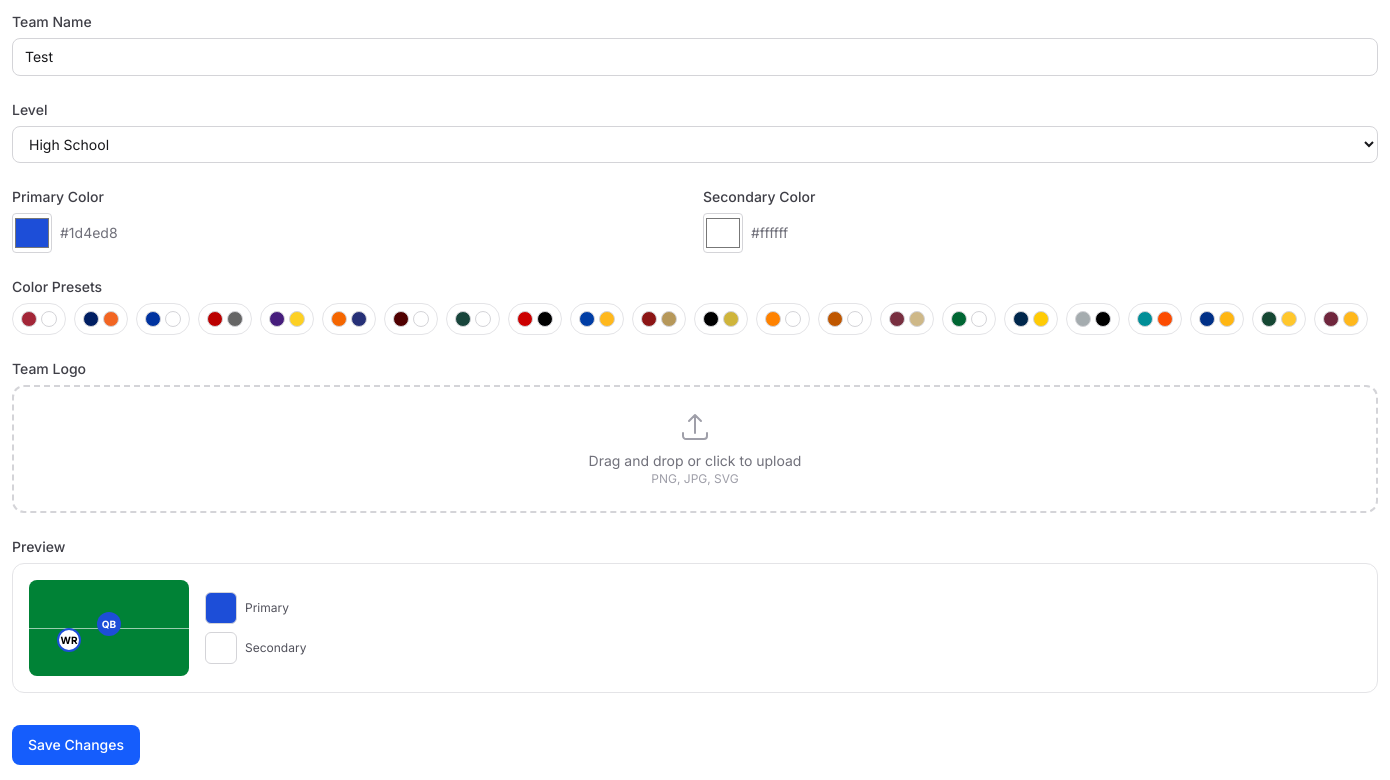
TeamBranding › shows loading state on the save button
The image size is (1390, 780).
Click the button with test id "save-branding-button": (76, 745) [12, 725, 140, 765]
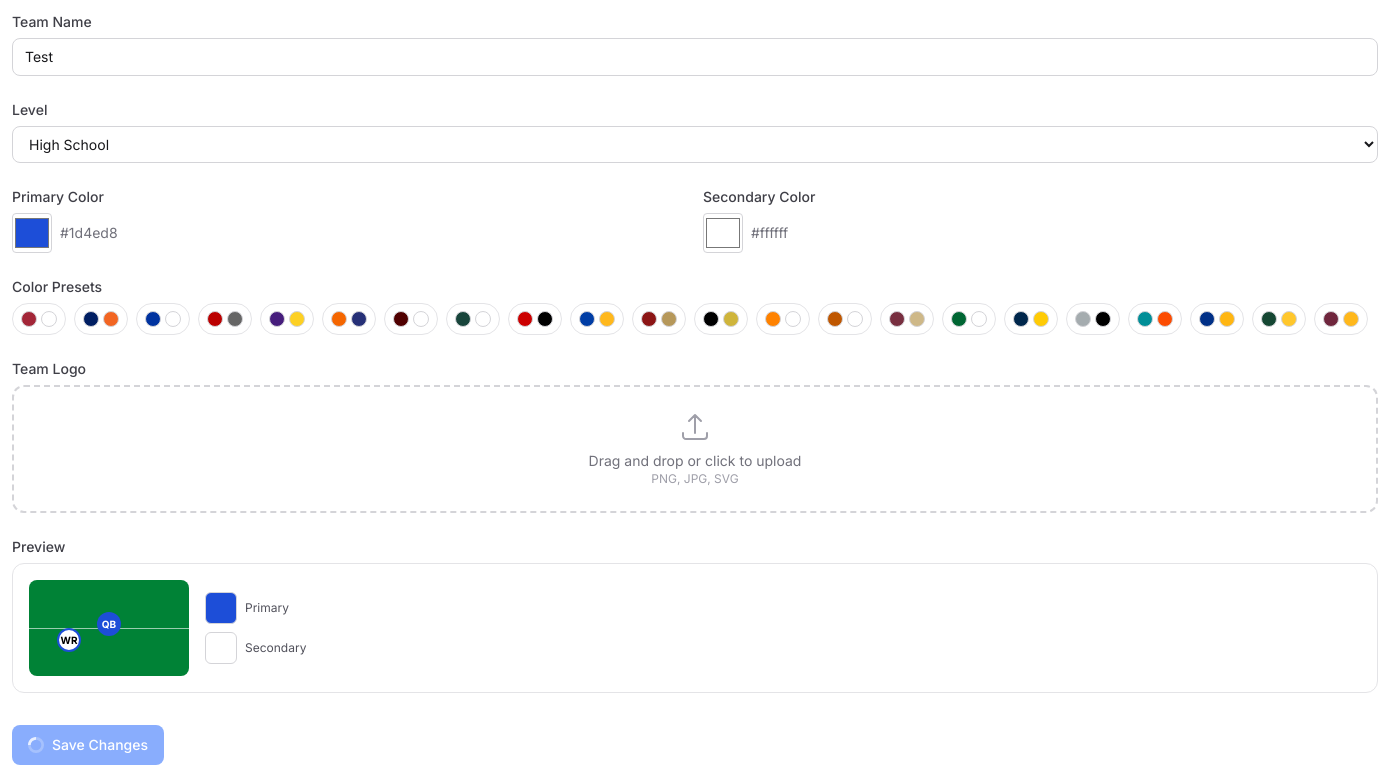
Result: the button with test id "save-branding-button" is disabled at [12, 725, 164, 765]
